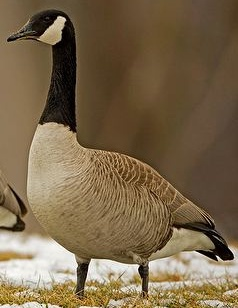goose: (3, 3, 236, 299)
